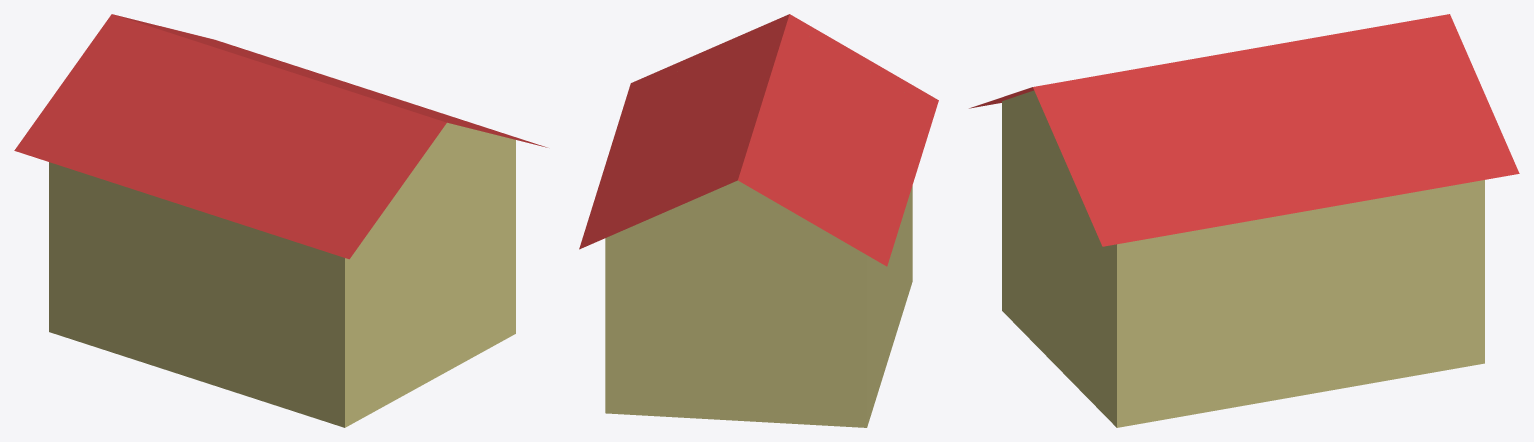
The picture shows the model from 3 angles, left to right: view 1: azimuth 30°, elevation 25°; view 2: azimuth 150°, elevation 25°; view 3: azimuth 270°, elevation 25°; orthographic projection. The views are drawn at different scales.
Size of the model in its own units: 14.11 by 15.61 by 8.87.
